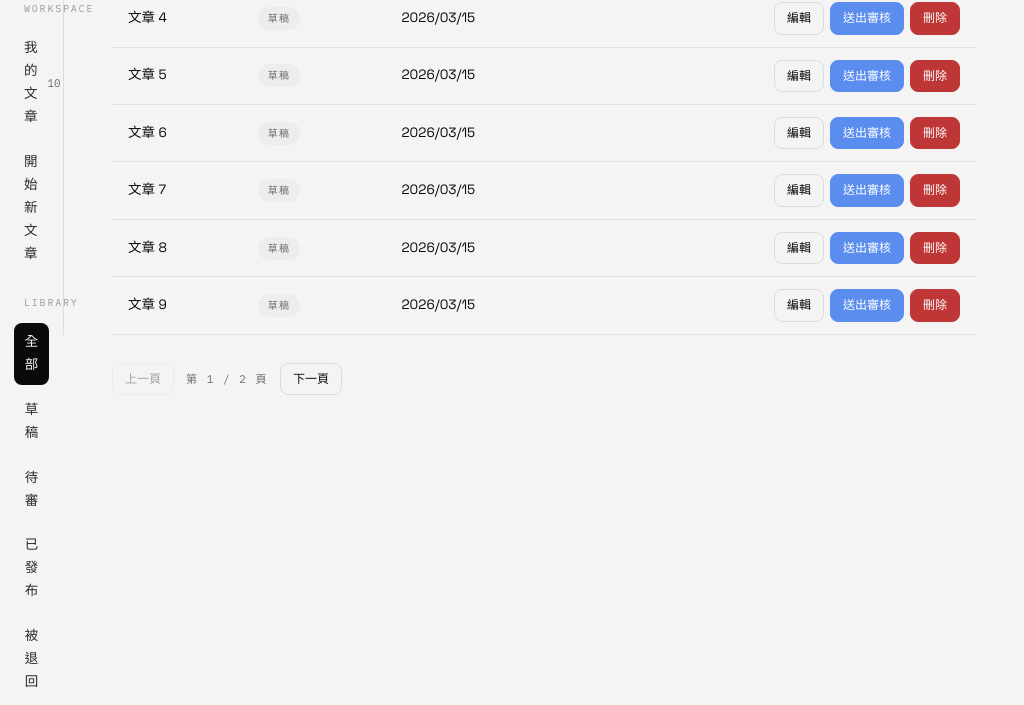
Test: MyArticlesView › 分頁 › 最後頁「下一頁」disabled
This screenshot has width=1024, height=705.
(page scrolled)
Click the button "下一頁".
click(311, 379)  # box top-left (280, 363), bottom-right (342, 395)
(page scrolled)
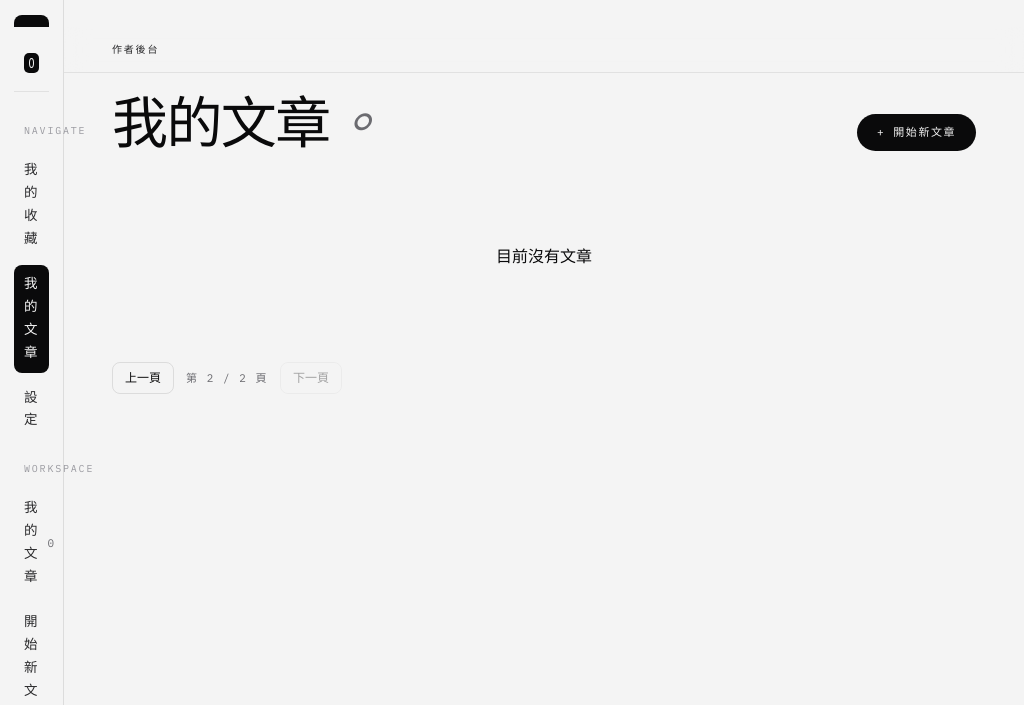
Now the button "下一頁" is disabled, box top-left (280, 362), bottom-right (342, 394)
